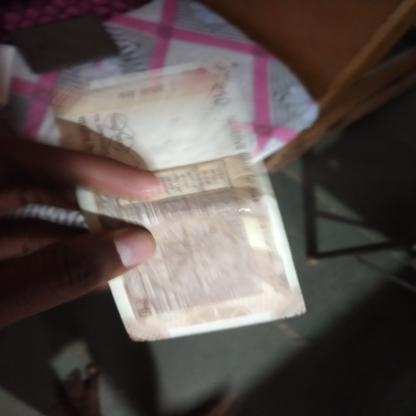New10Back: (55, 86, 293, 332)
